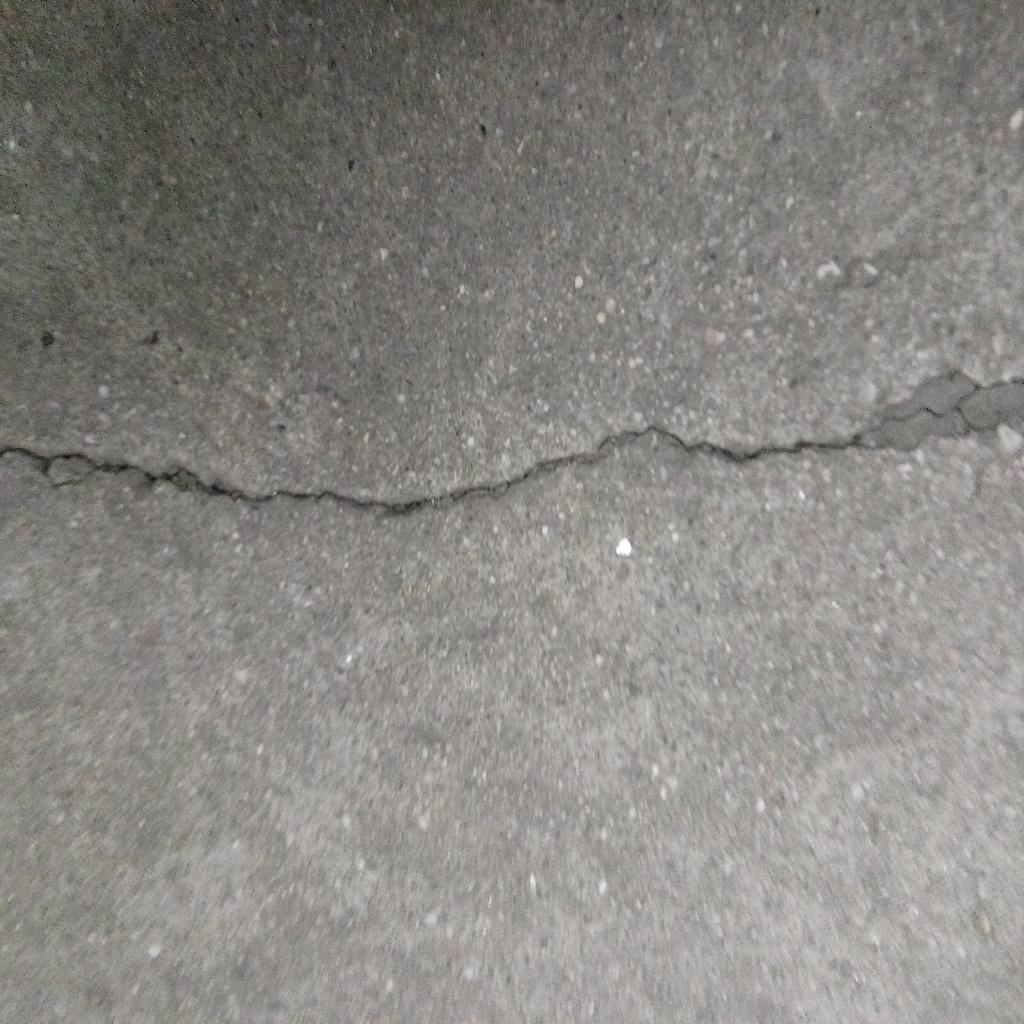Crack: (1, 364, 1024, 513)
